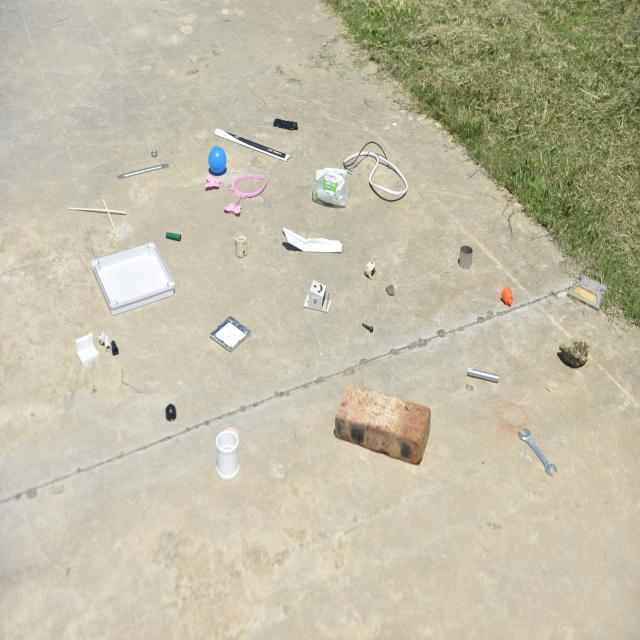Debris: (331, 376, 430, 479), (307, 138, 405, 214), (80, 246, 174, 315), (199, 166, 276, 218), (216, 118, 290, 166), (515, 415, 562, 490), (200, 306, 258, 360), (203, 426, 252, 485), (109, 142, 170, 183), (566, 263, 613, 316), (72, 327, 119, 377), (272, 223, 338, 258), (64, 195, 136, 226), (295, 274, 338, 322), (462, 355, 506, 396), (153, 391, 186, 433), (558, 331, 590, 374), (269, 114, 303, 140), (495, 281, 519, 314), (232, 229, 254, 265), (203, 143, 226, 173), (452, 244, 479, 268), (361, 254, 381, 286), (166, 225, 186, 244), (356, 316, 376, 335), (386, 283, 396, 302)
